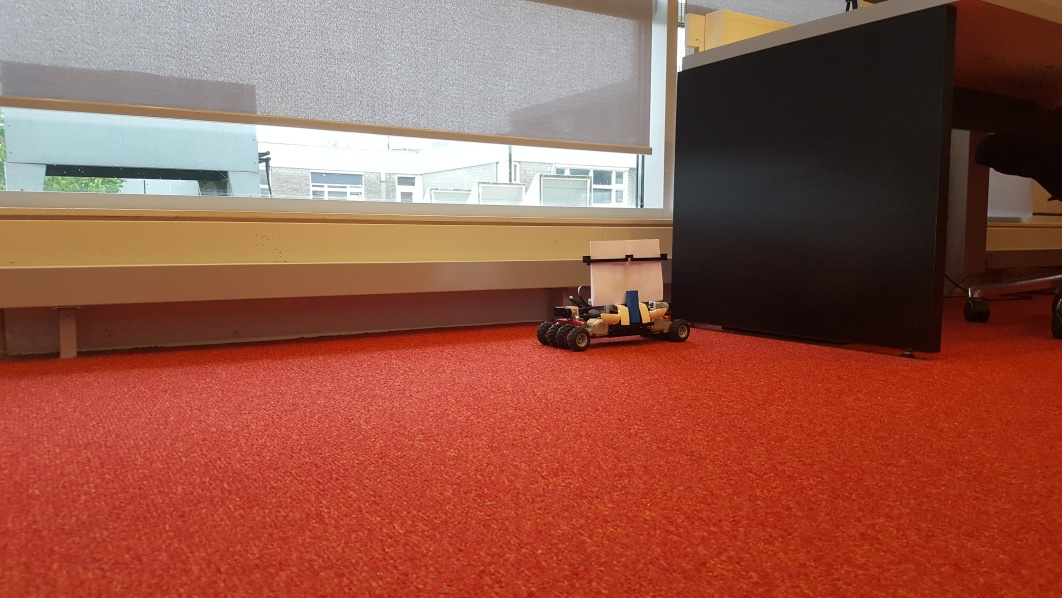car: (537, 237, 688, 349)
